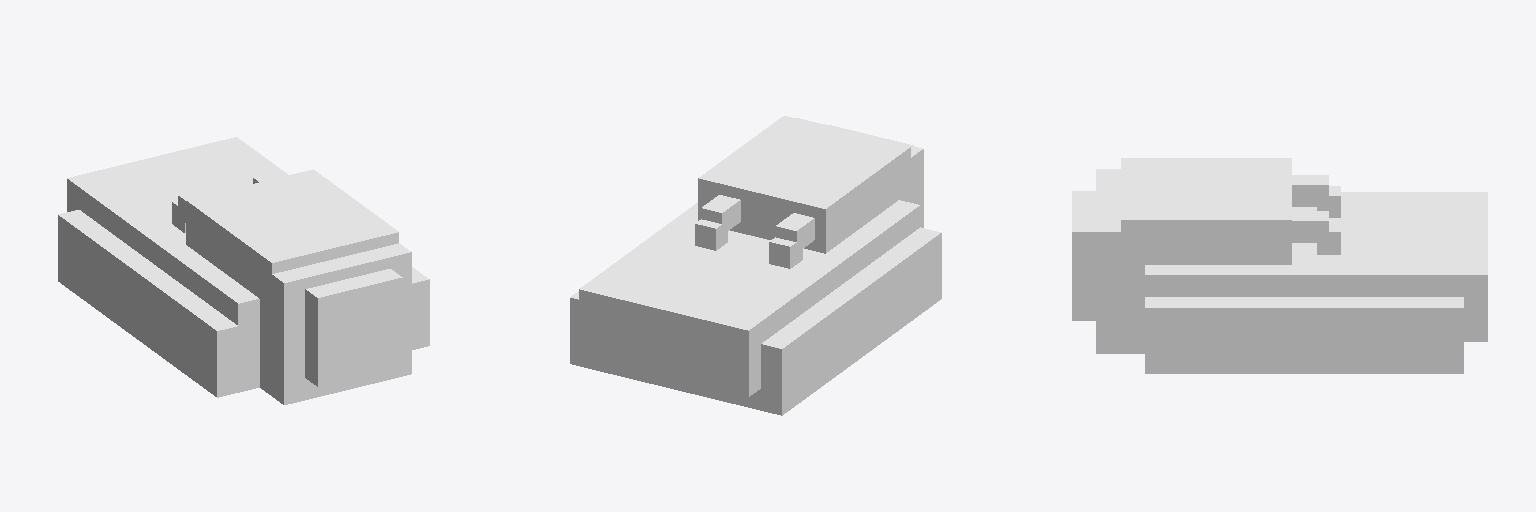
File: roboto-up-1.obj
The picture shows the model from 3 angles: view 1: azimuth 30°, elevation 25°; view 2: azimuth 150°, elevation 25°; view 3: azimuth 270°, elevation 25°; orthographic projection.
Parts seen in each view (by area): view 1: object 1; view 2: object 1; view 3: object 1.
Boxes of the visible parts, <box> form: object 1: <box>58,137,429,404</box>; object 1: <box>570,116,941,415</box>; object 1: <box>1072,158,1487,373</box>.
Size of the model in its own units: 2 by 1.2 by 3.4.